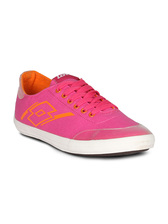shoes: (11, 69, 158, 160)
